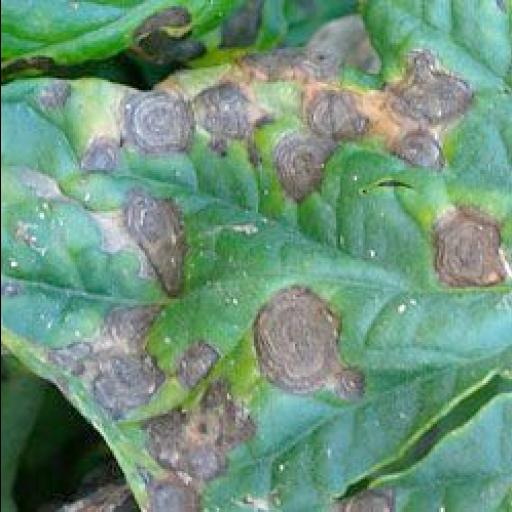disease_tomato: (2, 4, 510, 510)
